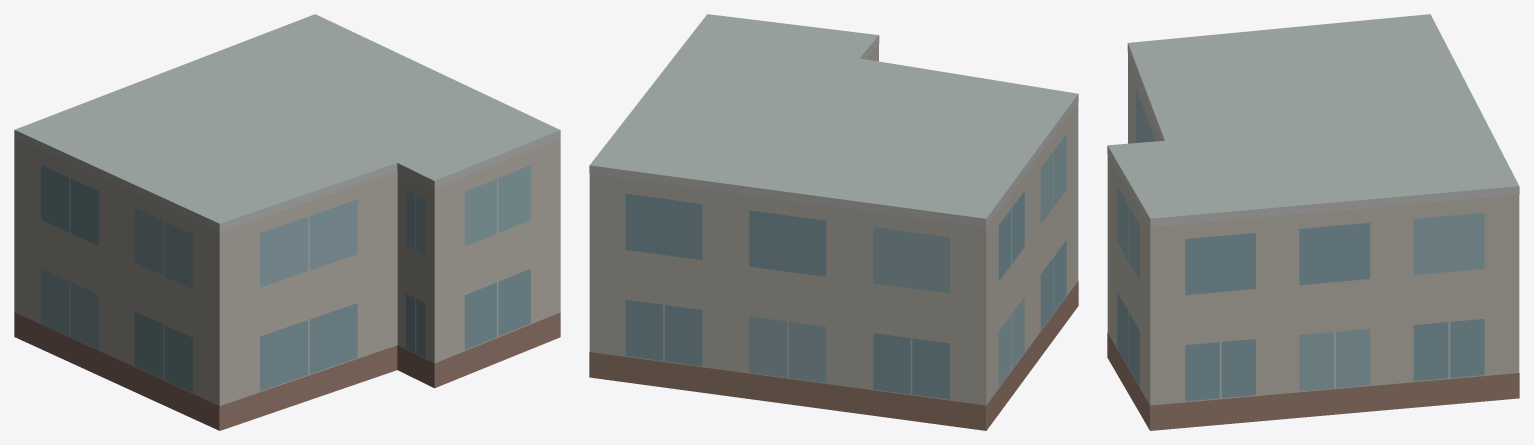
Rendered from survey-upis-32619616.glb.
3 views of the same model, side by side, from view 1: azimuth 30°, elevation 25°; view 2: azimuth 150°, elevation 25°; view 3: azimuth 270°, elevation 25° (orthographic). The views are drawn at different scales.
Visible parts, largest first — view 1: survey-upis-32619616.tmp; view 2: survey-upis-32619616.tmp; view 3: survey-upis-32619616.tmp.
Part boxes in pixels (x1=…): survey-upis-32619616.tmp: x1=14, y1=14, x2=560, y2=430; survey-upis-32619616.tmp: x1=589, y1=14, x2=1078, y2=430; survey-upis-32619616.tmp: x1=1107, y1=14, x2=1519, y2=430.
Bounding box in the file's own units: 12.63 × 6.1 × 10.74.
